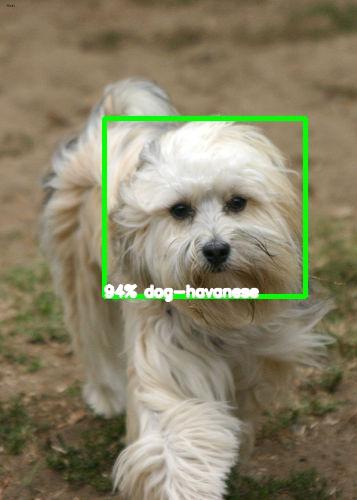dog-havanese: (118, 118, 298, 302)
